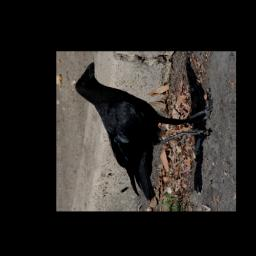Crow: (72, 60, 214, 201)
